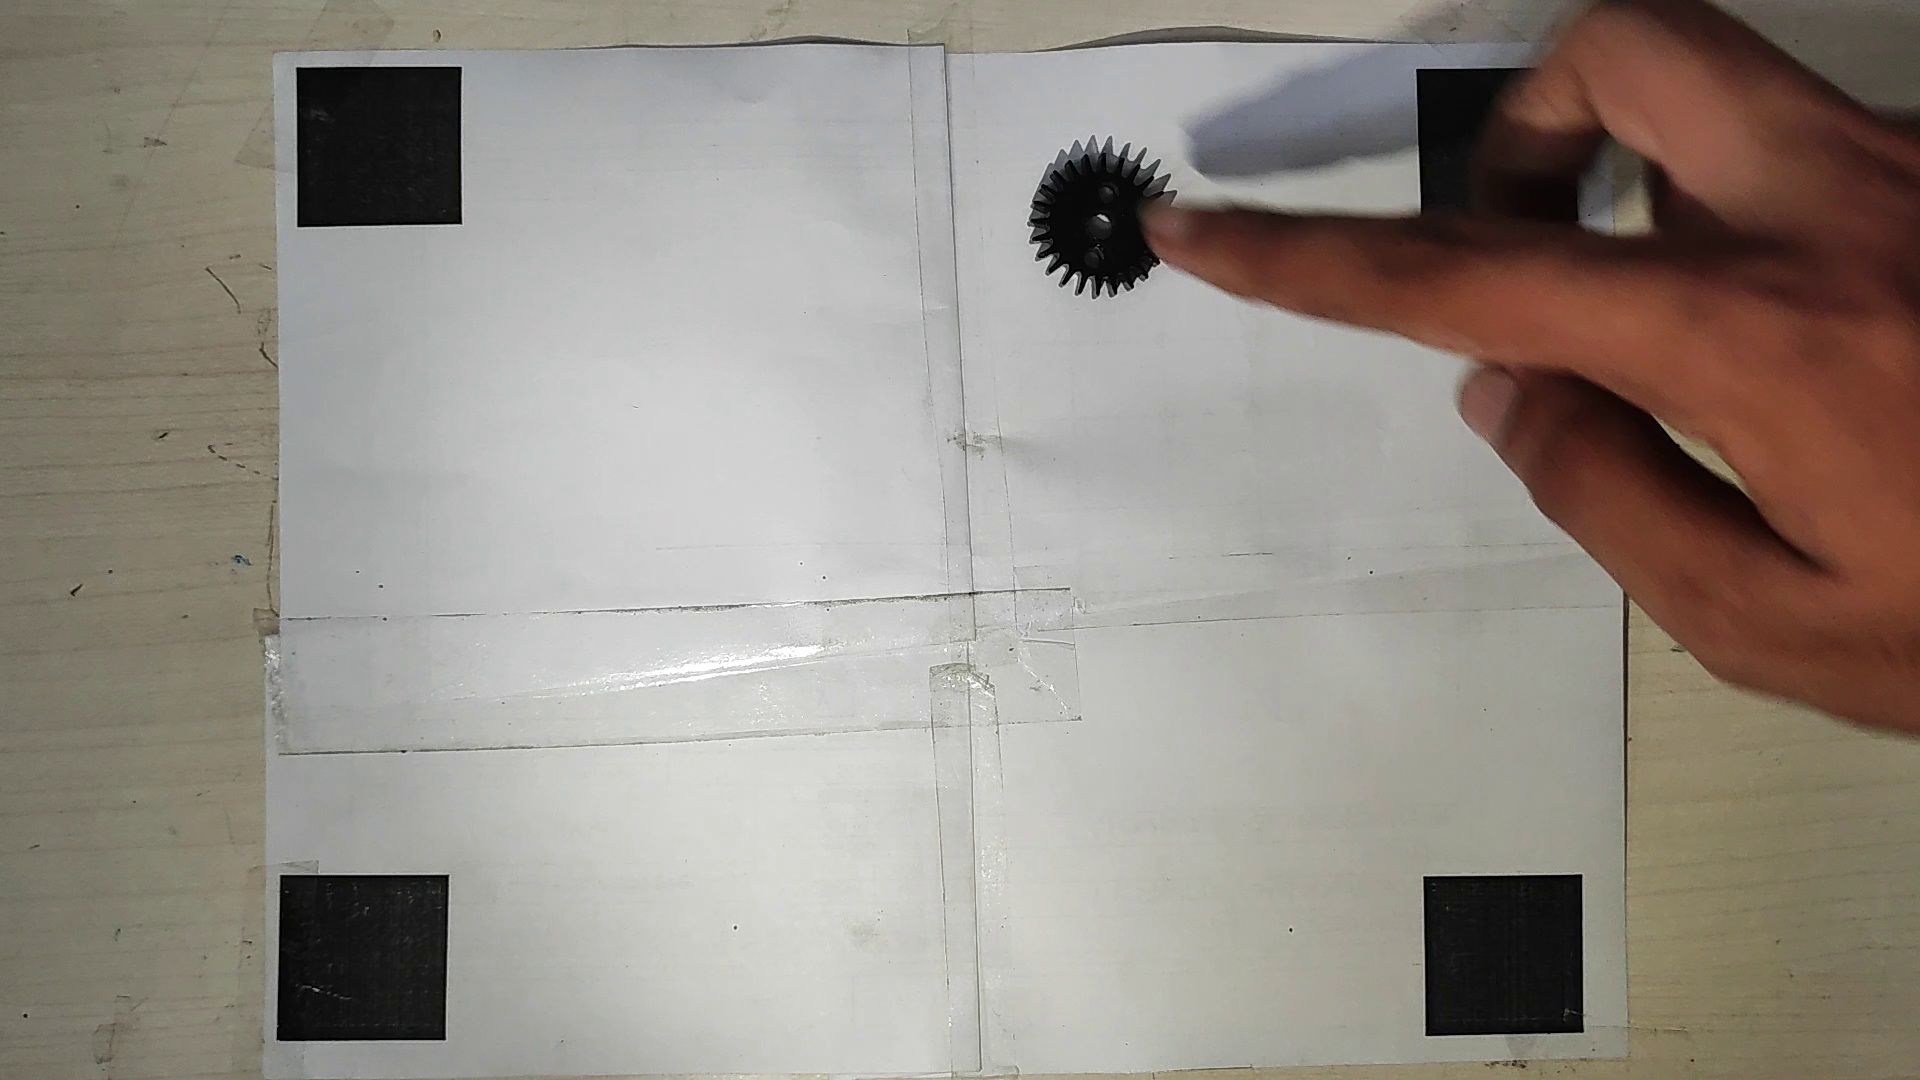Gear: (1022, 146, 1181, 302)
